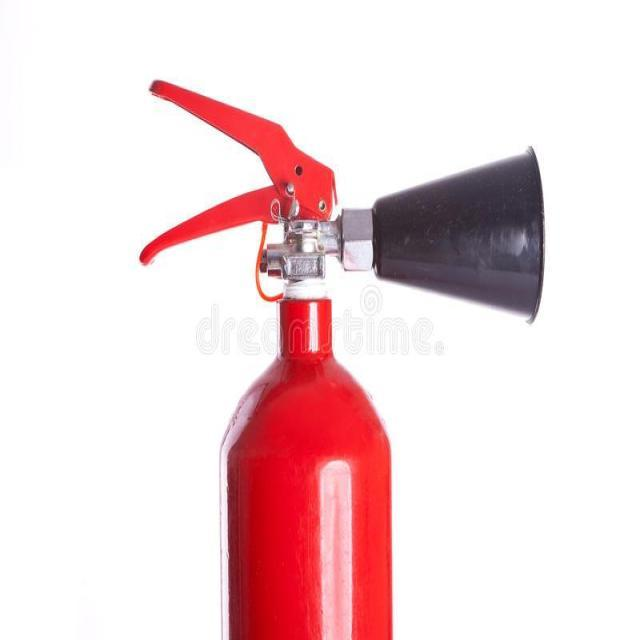fire_extinguisher: (134, 72, 551, 639)
